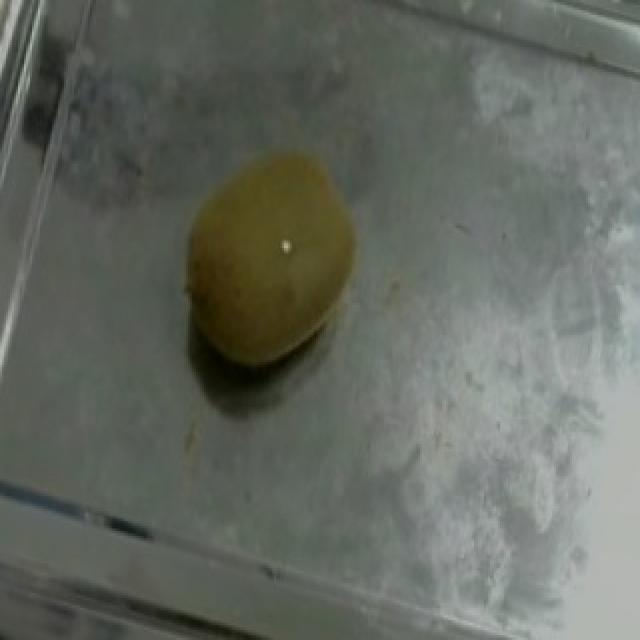Fruit: (146, 117, 398, 409)
